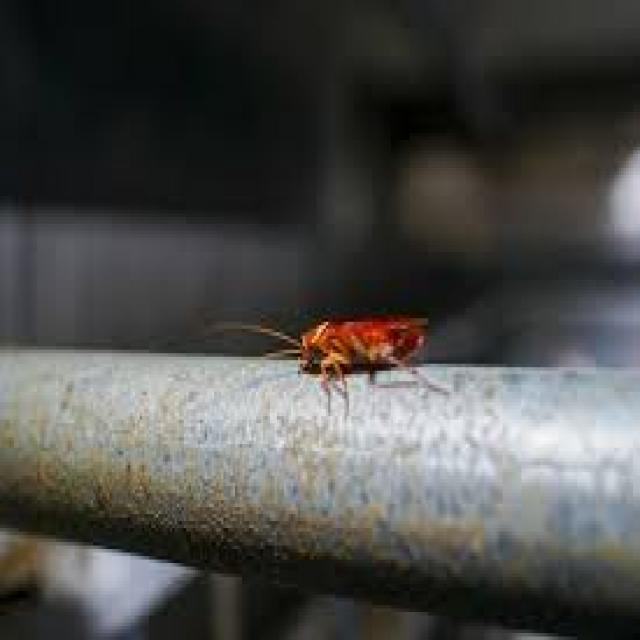Cockroach: (186, 273, 477, 446)
